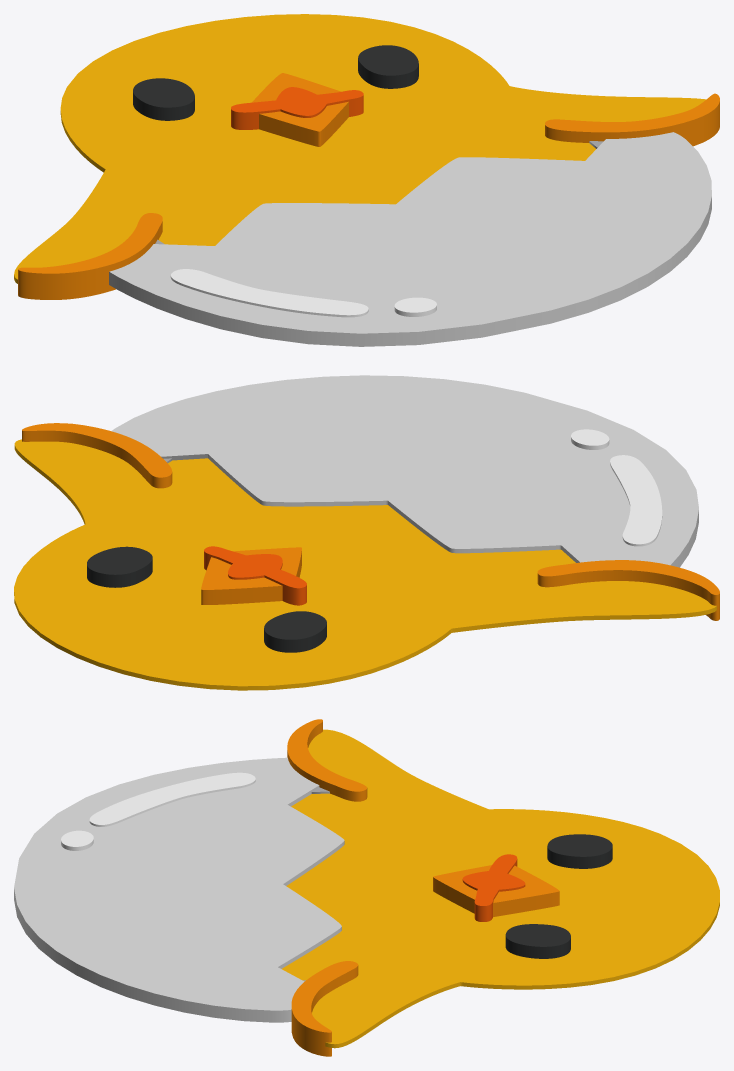
Rendered from emoji_u1f423.glb.
3 views of the same model, one above another, from view 1: azimuth 30°, elevation 25°; view 2: azimuth 150°, elevation 25°; view 3: azimuth 270°, elevation 25° (orthographic). The views are drawn at different scales.
Parts seen in each view (by area): view 1: emoji_u1f423; view 2: emoji_u1f423; view 3: emoji_u1f423.
Part boxes in pixels (bbox=[...]): emoji_u1f423: bbox=[14, 14, 719, 346]; emoji_u1f423: bbox=[14, 375, 719, 690]; emoji_u1f423: bbox=[14, 719, 719, 1056].
Size of the model in its own units: 0.0336 by 0.0018 by 0.0318.
